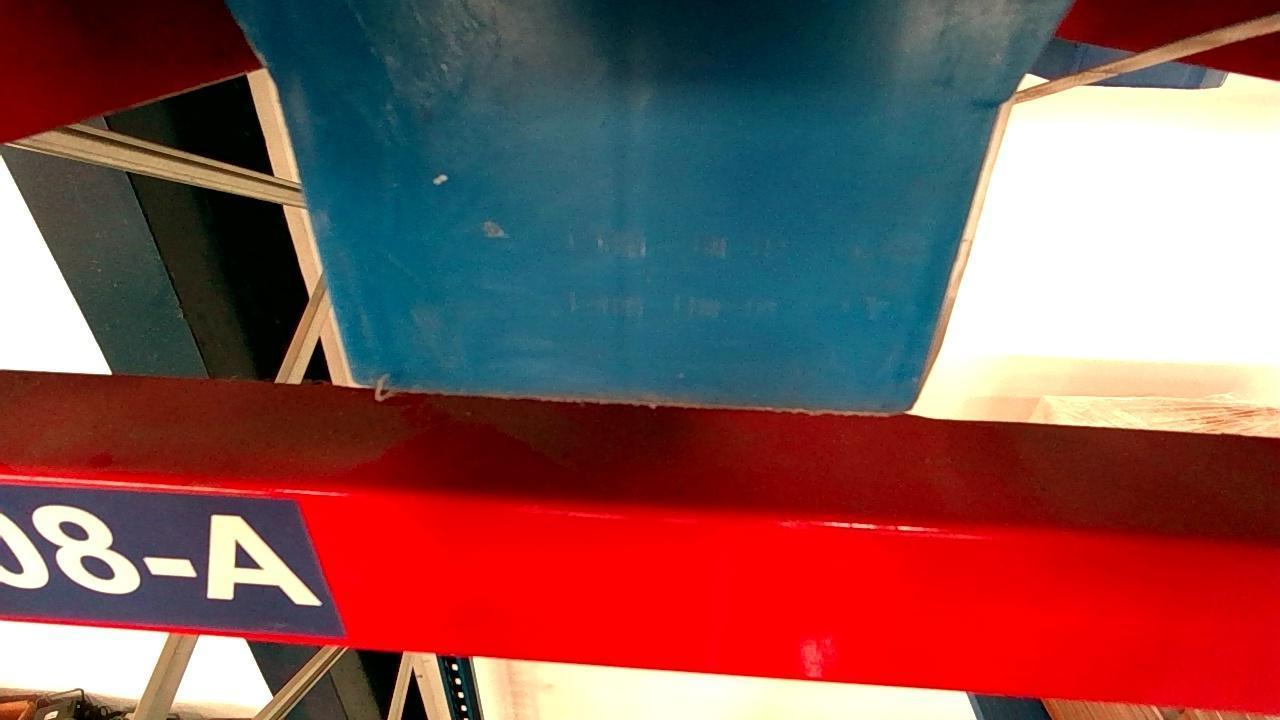h_rack: (0, 475, 1280, 714)
